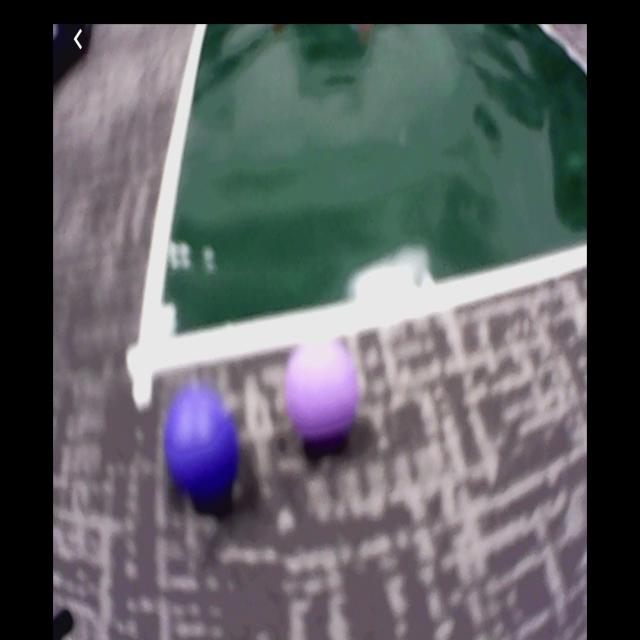ball: (167, 380, 245, 499), (288, 334, 355, 447)
